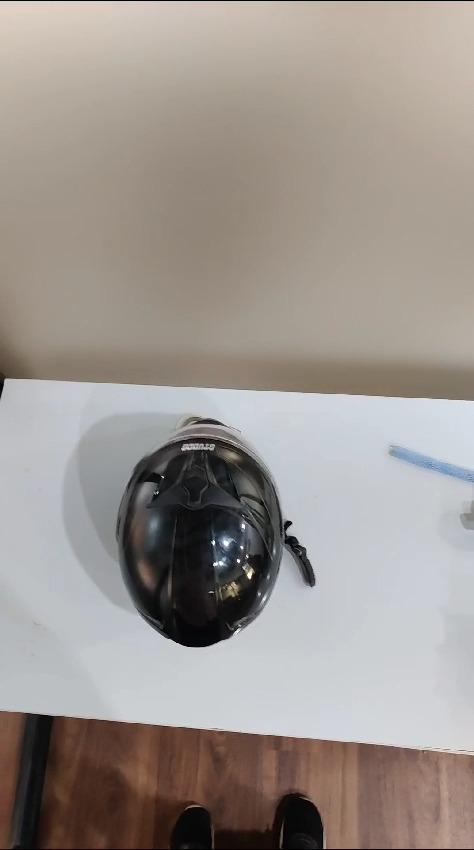Helmet: (102, 426, 285, 657)
